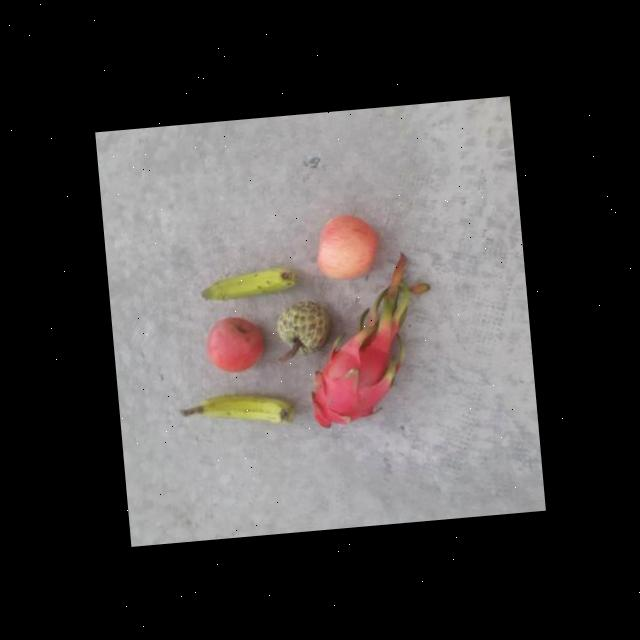Sakya fruit: (272, 297, 336, 357)
apple: (309, 210, 382, 282), (202, 310, 267, 376)
banana: (200, 254, 306, 302), (200, 380, 294, 432)
pitaya: (304, 332, 404, 432)
